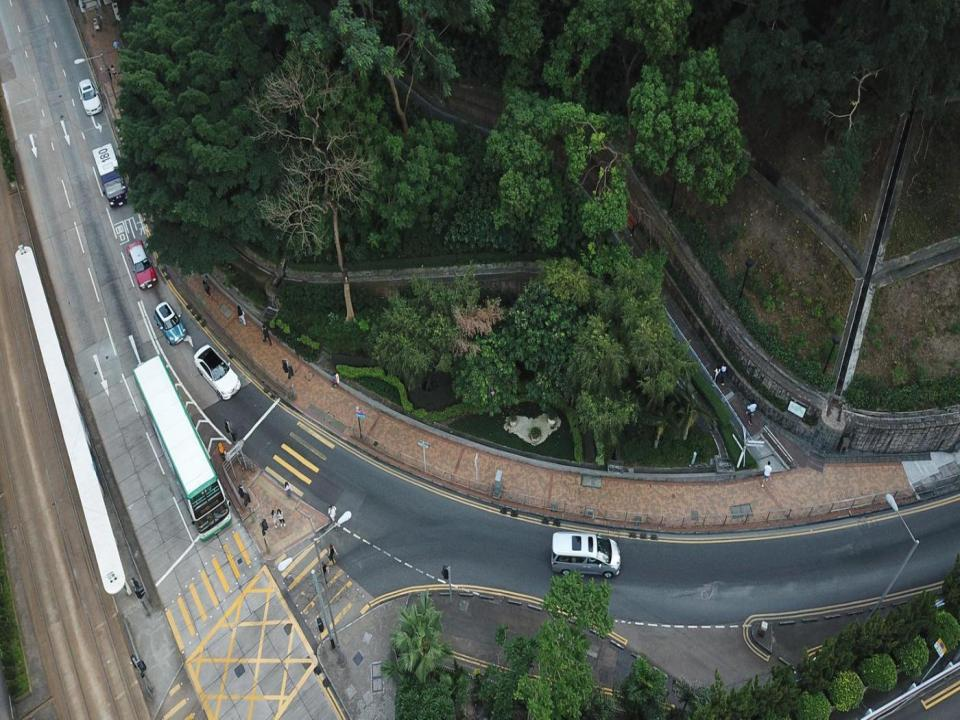bus: (132, 354, 232, 542)
car: (193, 344, 241, 400), (126, 239, 158, 290), (154, 302, 187, 344), (78, 79, 102, 116)
truck: (91, 143, 129, 209)
van: (551, 531, 621, 576)
